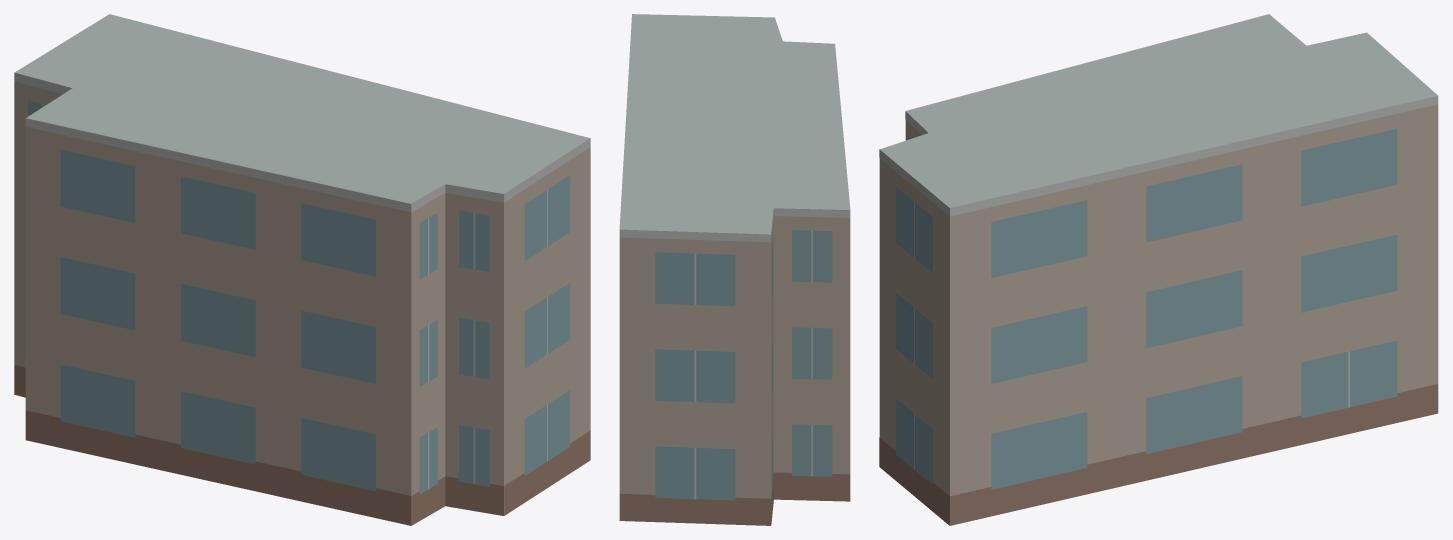
Rendered from survey-upis-32922679.glb.
The picture shows the model from 3 angles, left to right: view 1: azimuth 30°, elevation 25°; view 2: azimuth 150°, elevation 25°; view 3: azimuth 270°, elevation 25°; orthographic projection. The views are drawn at different scales.
Visible parts, largest first — view 1: survey-upis-32922679.tmp; view 2: survey-upis-32922679.tmp; view 3: survey-upis-32922679.tmp.
Part boxes in pixels (<box>): survey-upis-32922679.tmp: <box>14,14,590,525</box>; survey-upis-32922679.tmp: <box>619,14,850,525</box>; survey-upis-32922679.tmp: <box>879,14,1438,525</box>.
Size of the model in its own units: 11.93 by 9.1 by 14.51.
